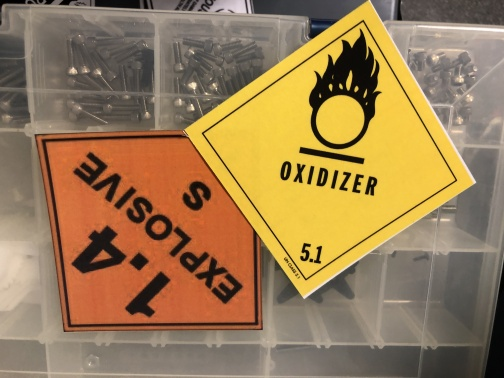Explosive: (35, 130, 264, 332)
Oxidizer: (185, 1, 475, 298)
